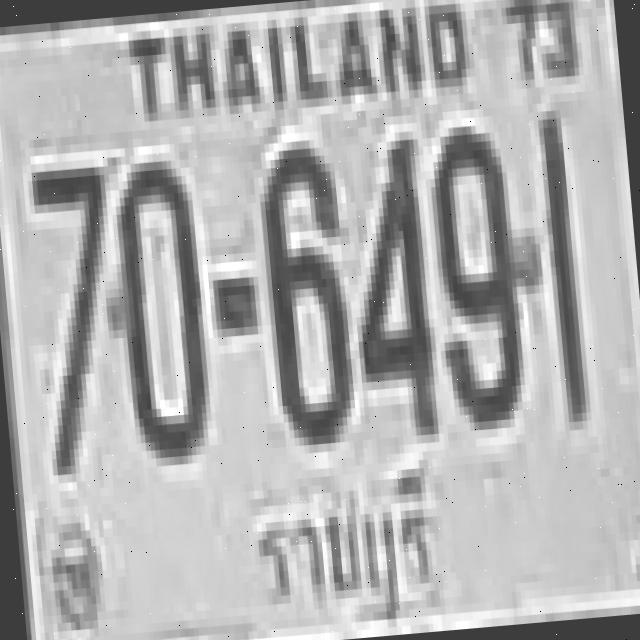0: (102, 156, 208, 457)
1: (532, 105, 586, 418)
4: (342, 131, 436, 431)
6: (255, 134, 352, 443)
7: (26, 158, 124, 468)
9: (420, 114, 532, 424)
Ratchaburi: (235, 452, 453, 640)
